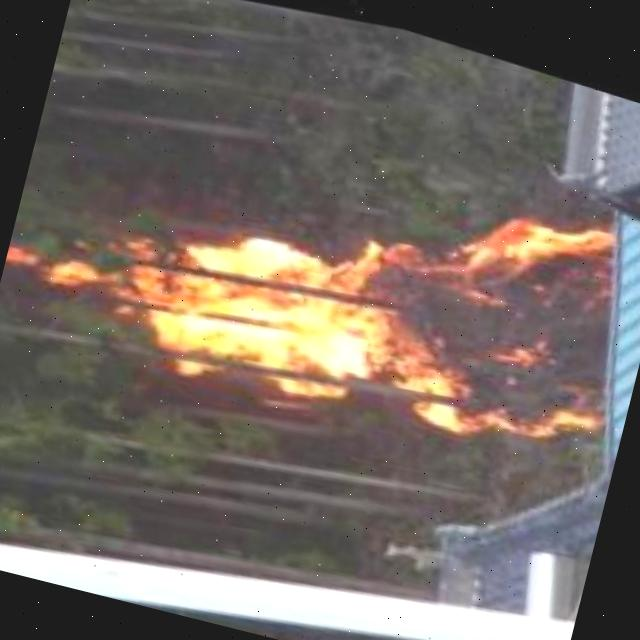fire: (0, 82, 640, 500)
